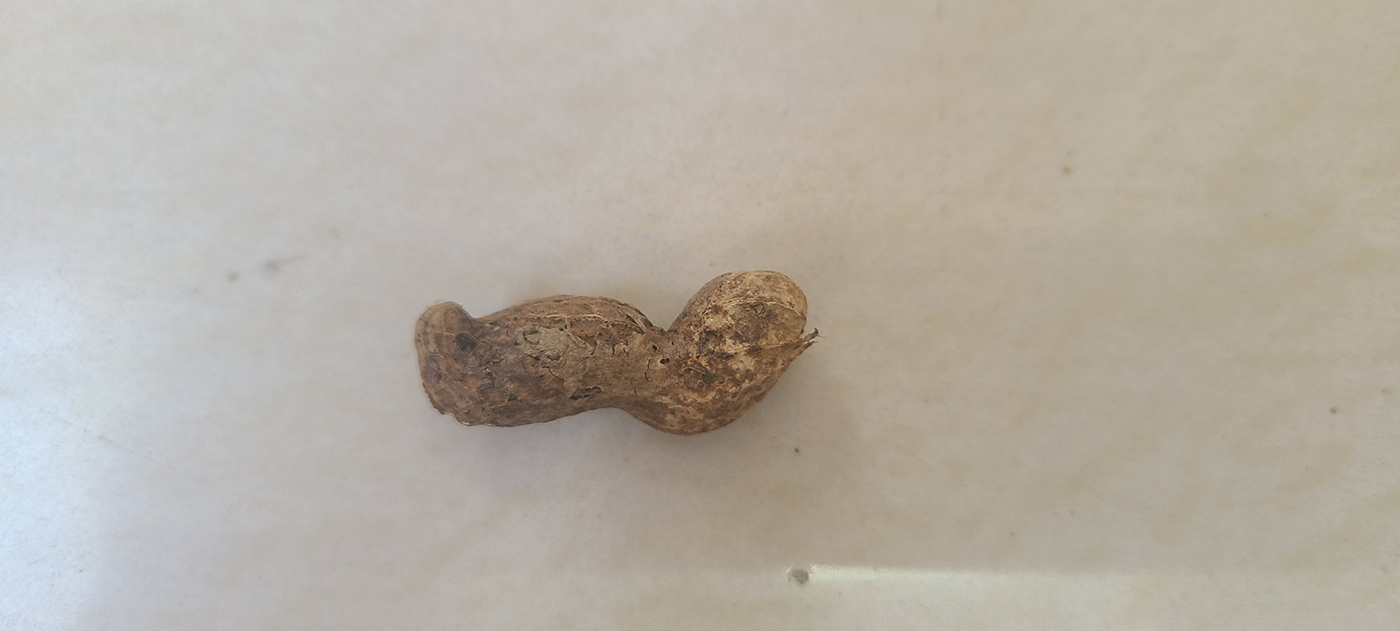l: (413, 265, 815, 437)
